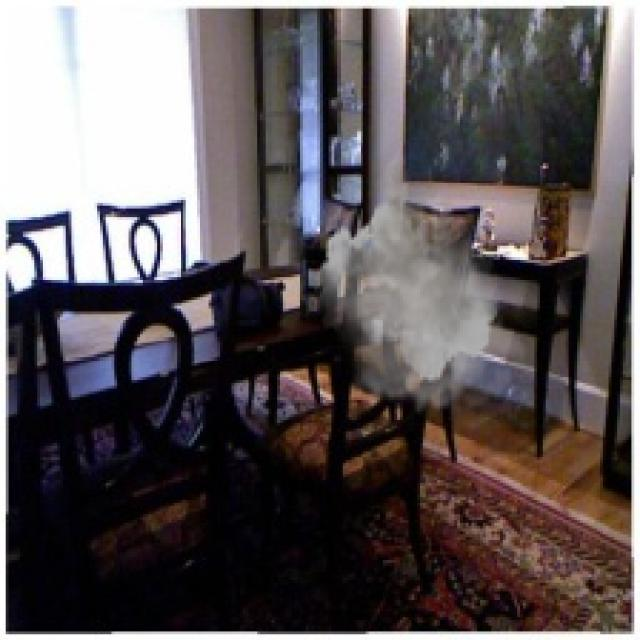Smoke: (314, 152, 529, 418)
